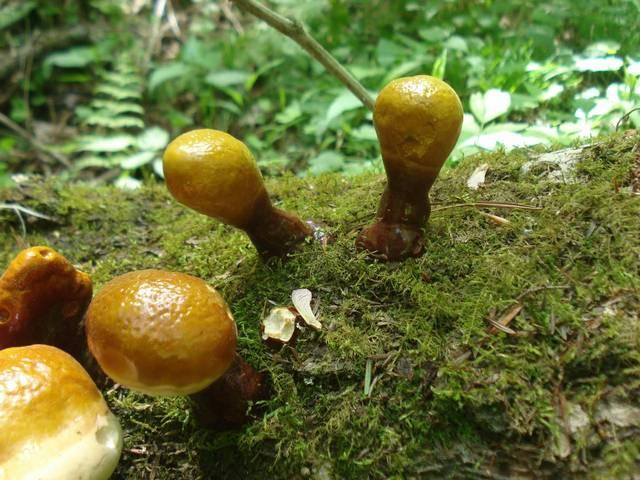poisonous_mushroom: (161, 126, 320, 259), (354, 73, 464, 261), (83, 267, 238, 397), (0, 342, 123, 479), (0, 244, 93, 360)
